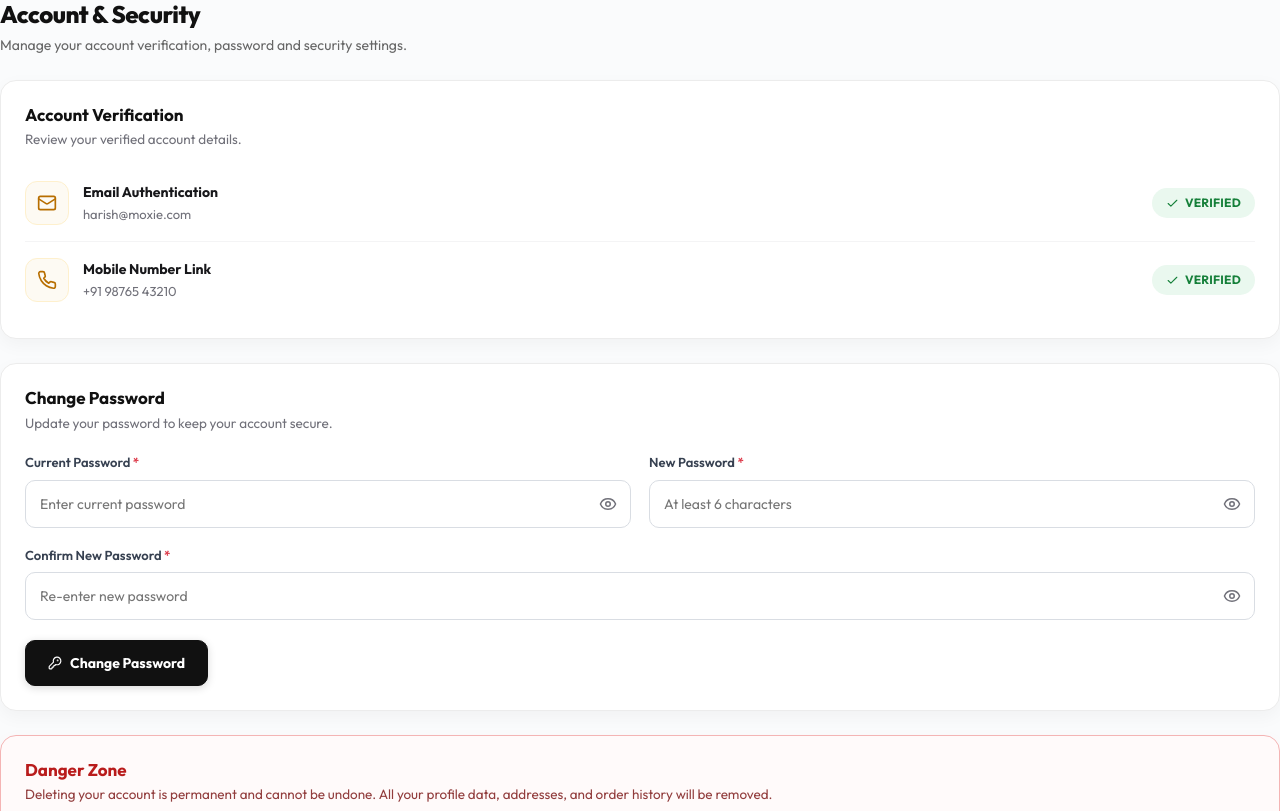
Test: AccountSecurity Component › handles successful password update
Type "oldSecret123" into the password field with placeholder "Enter current password". click: (328, 504)
box: left=25, top=480, right=631, bottom=528
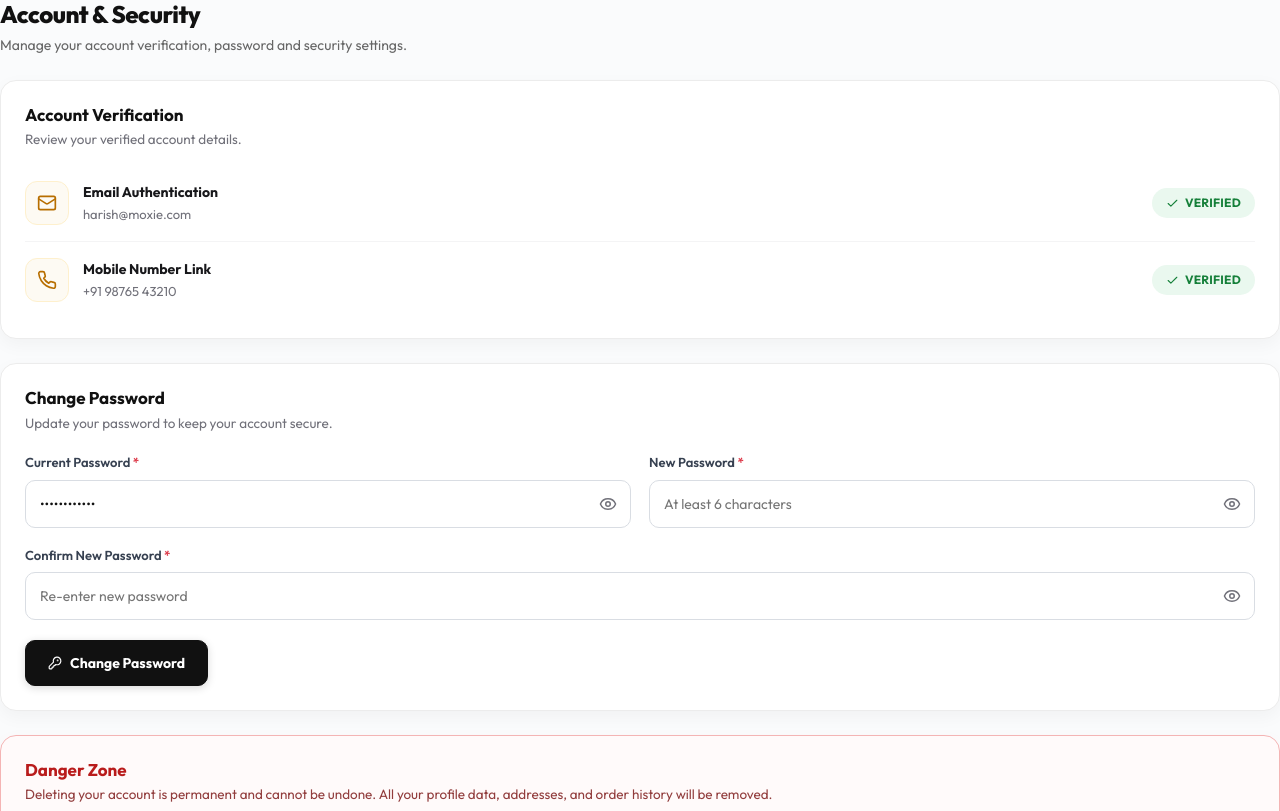
Type "superBrandNew123" into the password field with placeholder "At least 6 characters". click: (952, 504)
box: left=649, top=480, right=1255, bottom=528
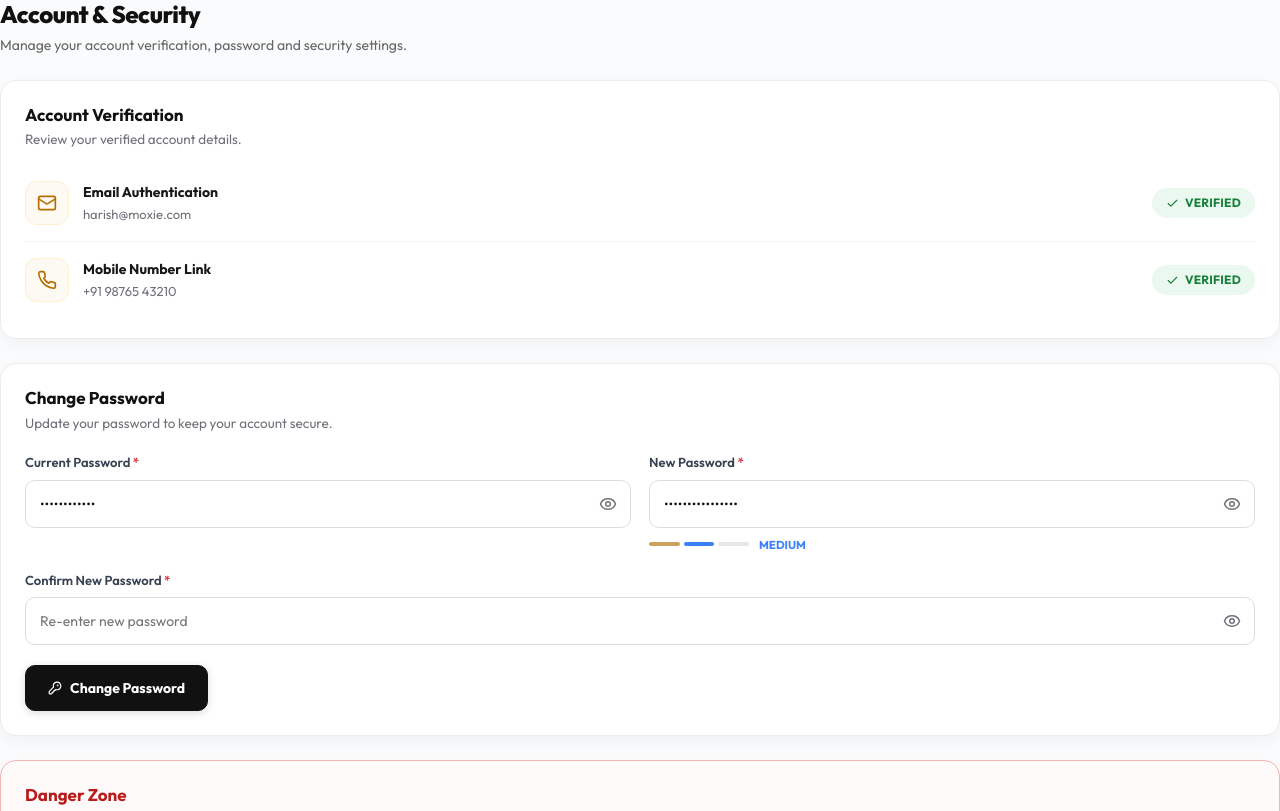
Type "superBrandNew123" into the password field with placeholder "Re-enter new password". click: (640, 621)
box: left=25, top=597, right=1255, bottom=645
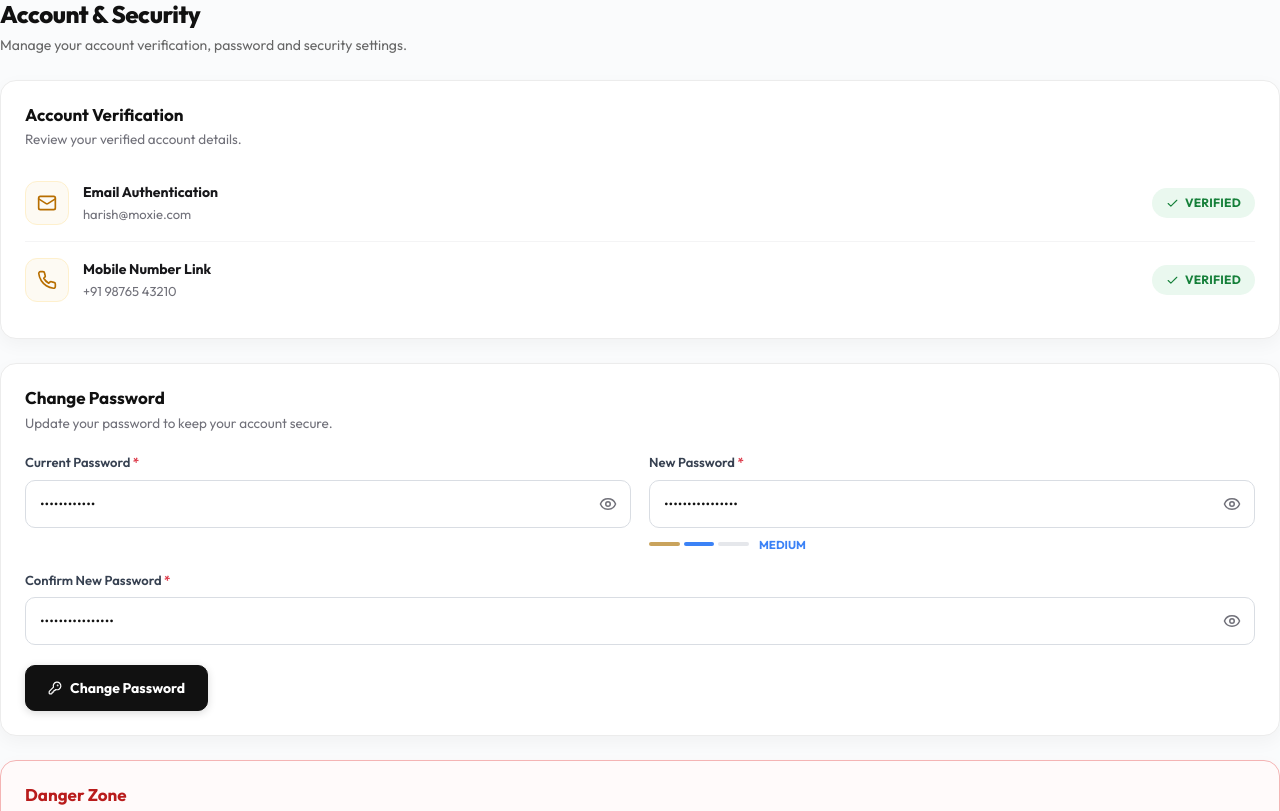
Click the button "Change Password". click: (117, 688)
box: left=25, top=665, right=208, bottom=711
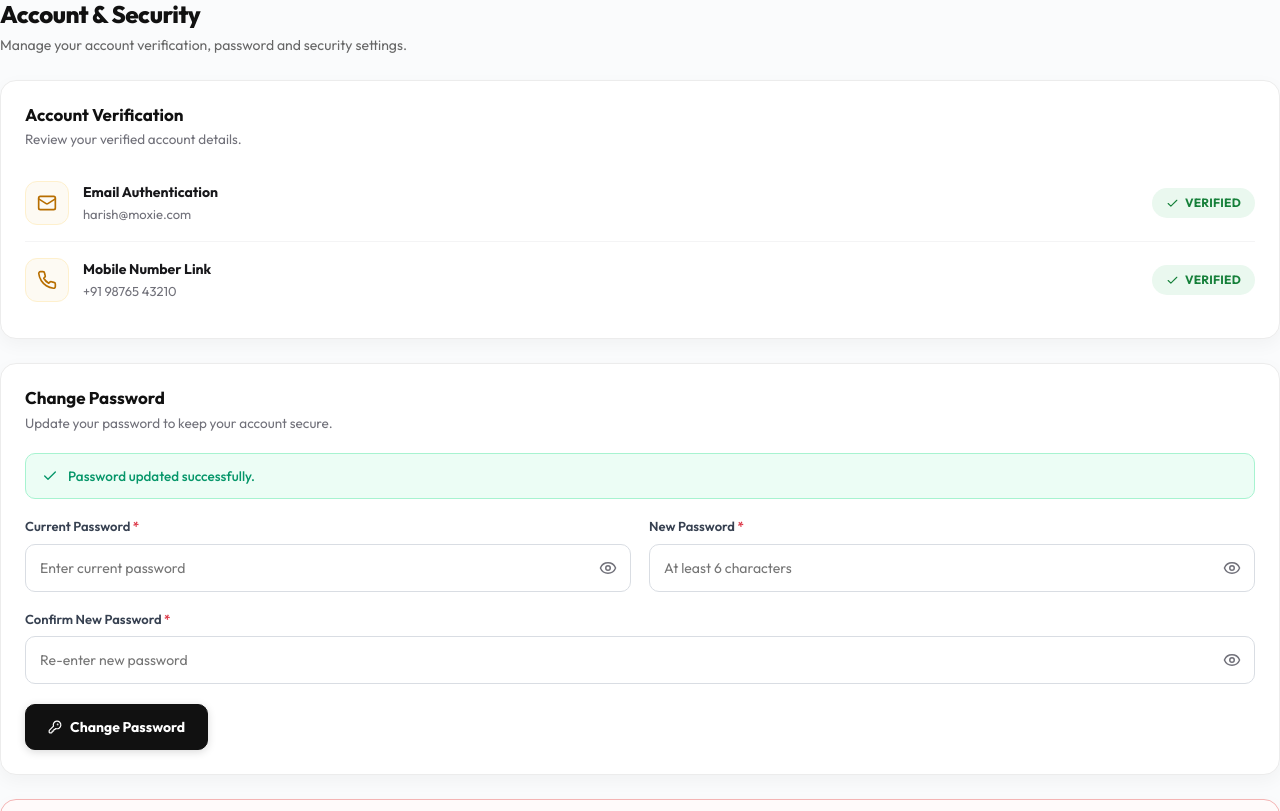
Result: the text "Password updated successfully." is shown at left=68, top=466, right=255, bottom=486
